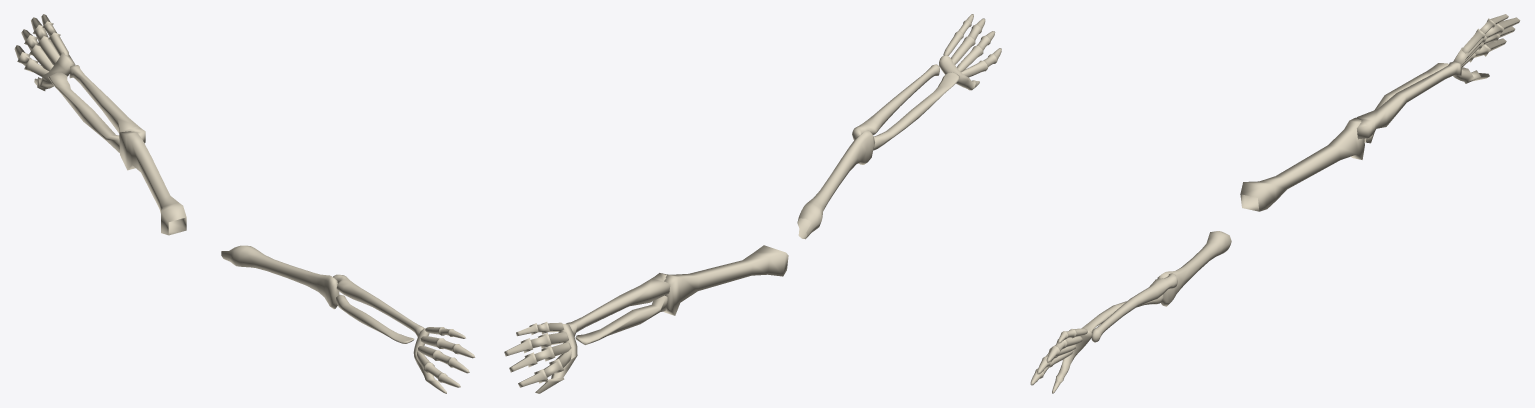
The picture shows the model from 3 angles, left to right: view 1: azimuth 30°, elevation 25°; view 2: azimuth 150°, elevation 25°; view 3: azimuth 330°, elevation 25°; orthographic projection. The views are drawn at different scales.
Parts seen in each view (by area): view 1: Skeleton_lowPoly, Skeleton_highPoly; view 2: Skeleton_lowPoly, Skeleton_highPoly; view 3: Skeleton_lowPoly, Skeleton_highPoly.
Boxes of the visible parts, x1,y1,x2,y2 form: Skeleton_lowPoly: (14,14,186,235); Skeleton_highPoly: (221,245,475,393); Skeleton_lowPoly: (504,245,788,393); Skeleton_highPoly: (797,14,1001,239); Skeleton_lowPoly: (1240,14,1520,211); Skeleton_highPoly: (1030,231,1231,393).
Size of the model in its own units: 1.33 by 1.21 by 14.36.
